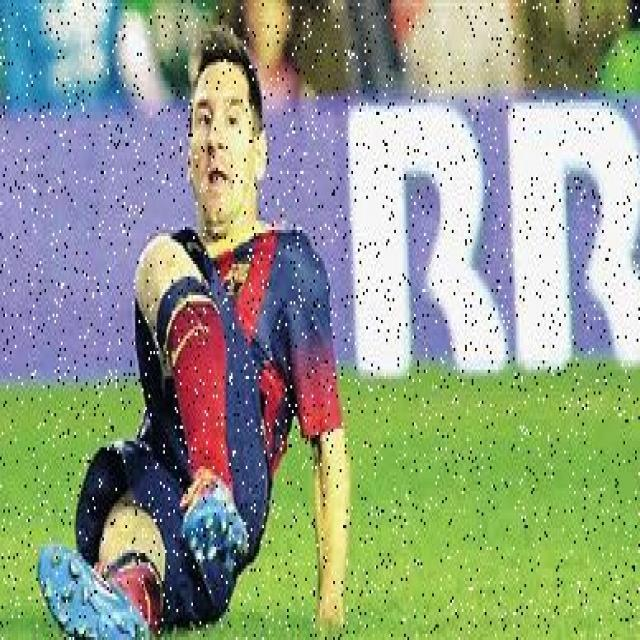fall: (43, 46, 345, 637)
